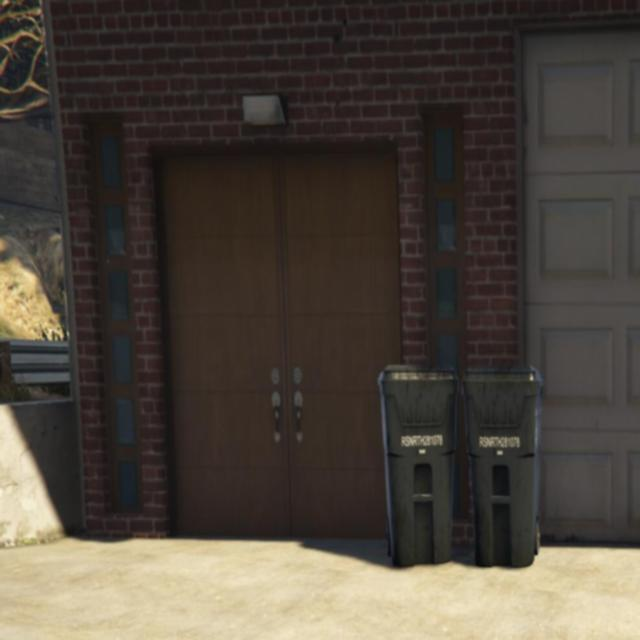ash bin: (376, 356, 460, 568), (461, 362, 547, 568)
